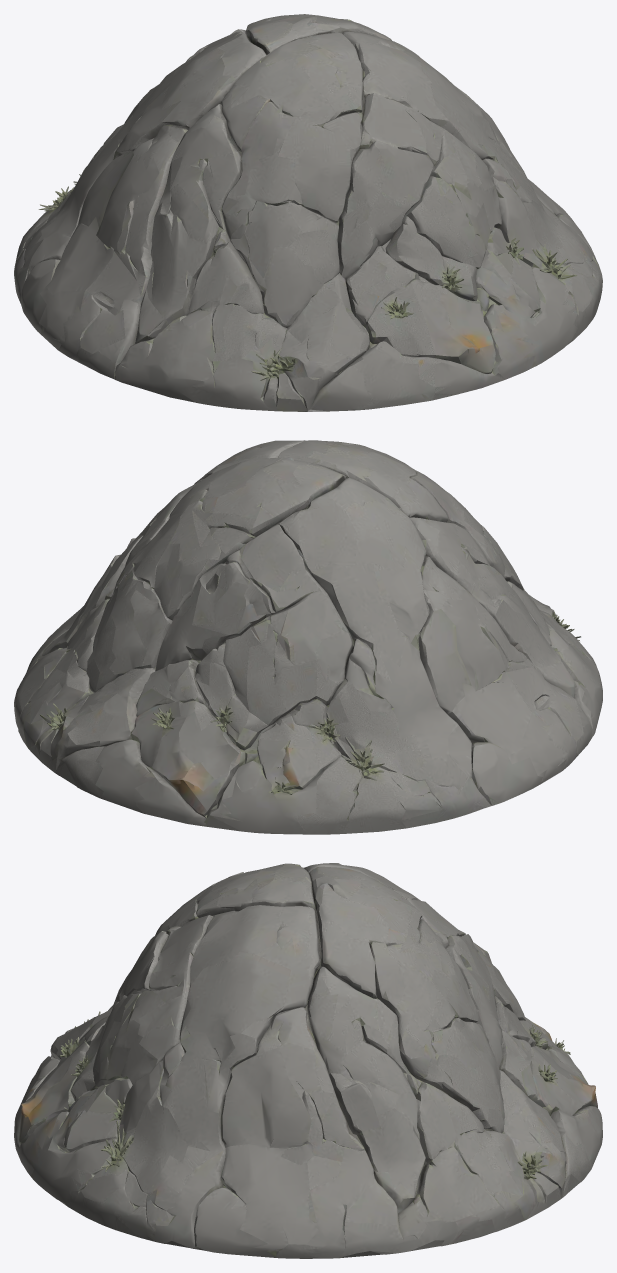
The model's file is Granite_Inselberg.glb.
The picture shows the model from 3 angles, top to bottom: view 1: azimuth 30°, elevation 25°; view 2: azimuth 150°, elevation 25°; view 3: azimuth 270°, elevation 25°; orthographic projection.
Bounding box in the file's own units: 1.89 × 0.9194 × 1.9.
Materials: 1 (1 with a texture image).
